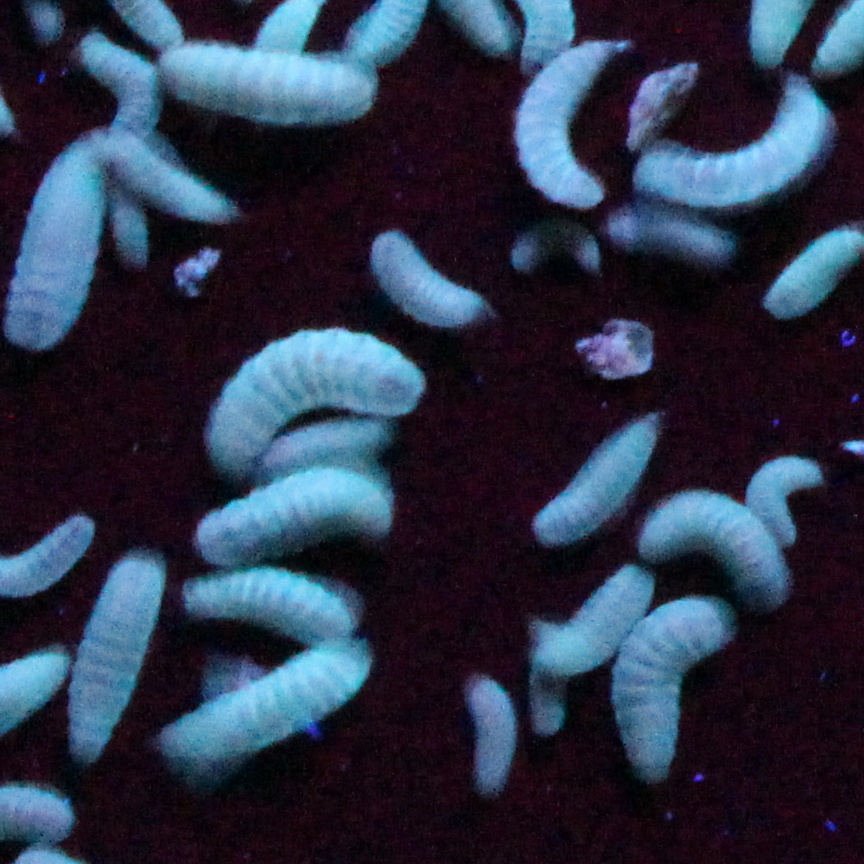larve: (193, 340, 424, 457), (161, 657, 375, 777), (47, 551, 150, 760), (624, 100, 821, 200), (615, 600, 724, 774), (7, 137, 98, 337), (513, 40, 613, 208), (538, 414, 664, 537), (187, 480, 390, 554), (170, 51, 387, 114), (647, 494, 787, 588), (95, 125, 238, 214), (170, 562, 333, 634), (373, 240, 504, 322), (267, 414, 393, 465), (750, 457, 813, 542), (473, 685, 513, 791)
